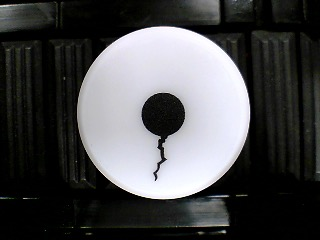CRACK: (76, 26, 251, 201)
